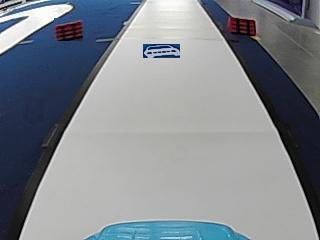bomb: (226, 16, 257, 34)
